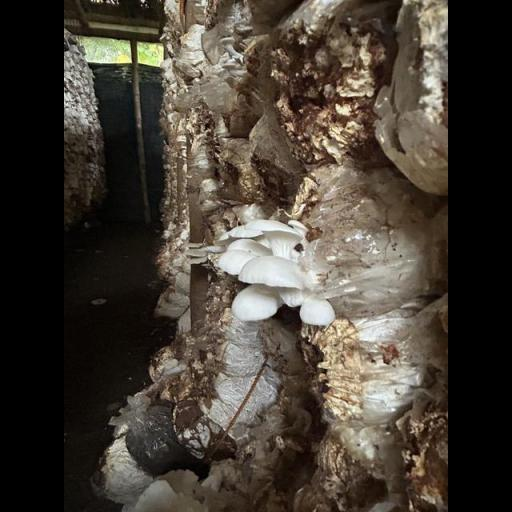White Oyster Mushroom: (199, 213, 346, 337)
